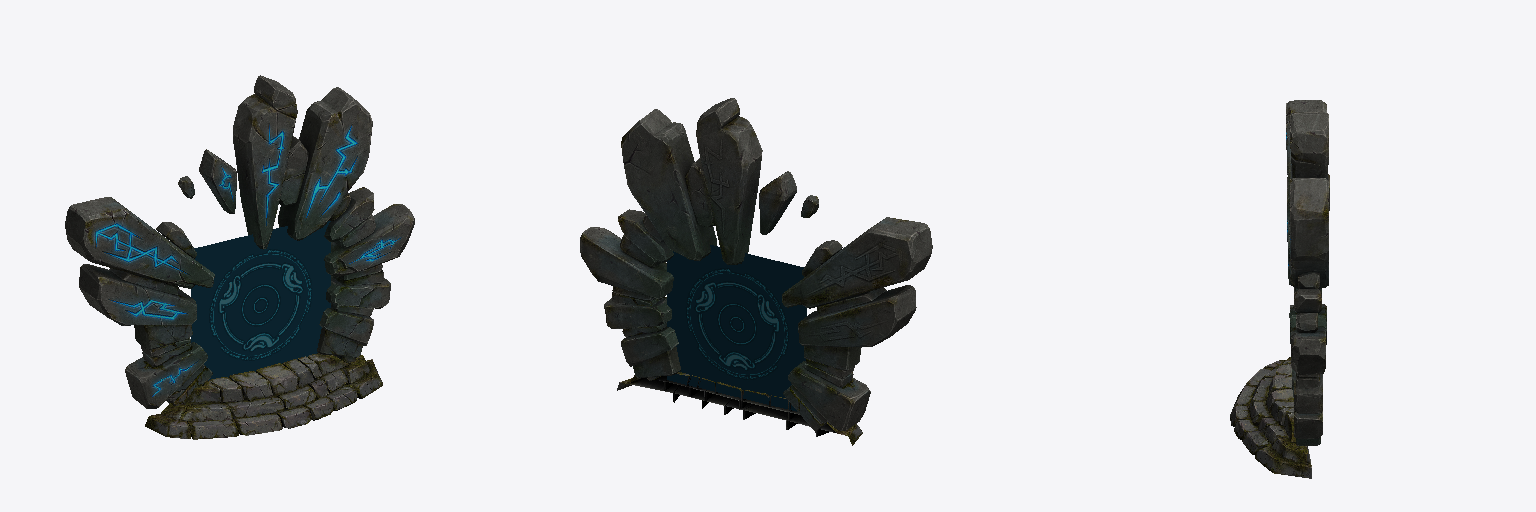
3 views of the same model, side by side, from view 1: azimuth 30°, elevation 25°; view 2: azimuth 150°, elevation 25°; view 3: azimuth 270°, elevation 25° (orthographic).
Visible parts, largest first — view 1: Object19, Plane01, Object09; view 2: Object19, Plane01, Object09; view 3: Object19, Object09.
Part boxes in pixels (left/top/right/bottom): Object19: left=65, top=75, right=414, bottom=408; Plane01: left=191, top=221, right=330, bottom=380; Object09: left=145, top=353, right=382, bottom=439; Object19: left=580, top=98, right=932, bottom=430; Plane01: left=667, top=245, right=806, bottom=411; Object09: left=617, top=372, right=862, bottom=445; Object19: left=1286, top=100, right=1329, bottom=446; Object09: left=1230, top=357, right=1311, bottom=478.
Bounding box in the file's own units: 3906 × 3459 × 997.
3 materials, 3 textured.